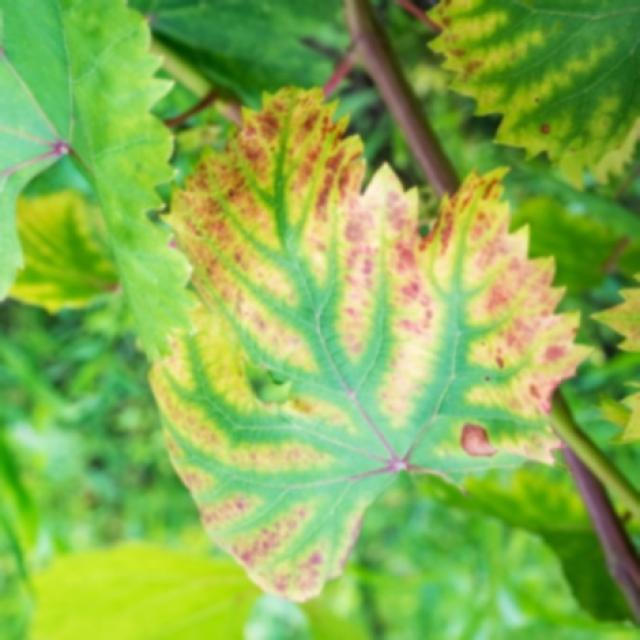Chlorosis: (123, 105, 562, 577)
